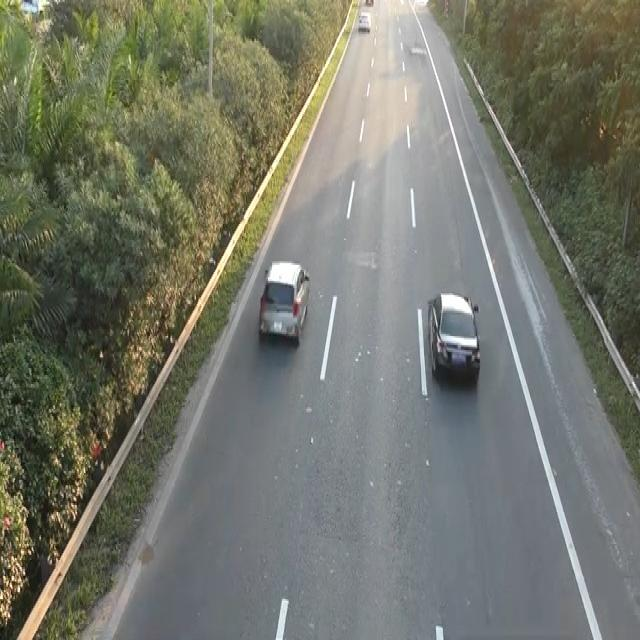bus: (425, 284, 482, 384), (257, 256, 311, 345)
